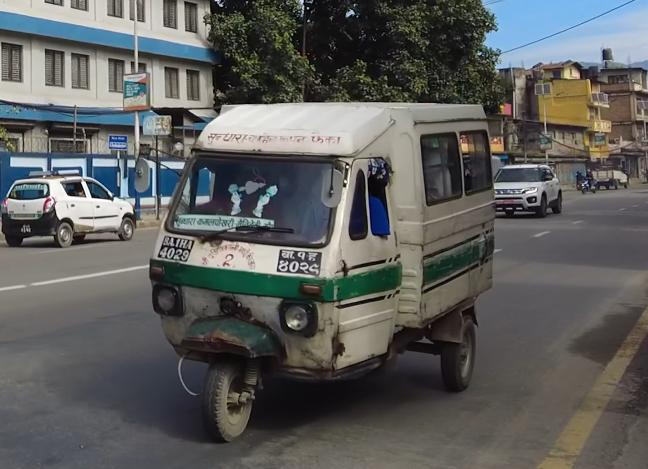car: (493, 157, 567, 221)
taxi: (3, 163, 140, 250)
tempo: (153, 93, 497, 449)
transport_vehicle: (588, 151, 633, 191)
